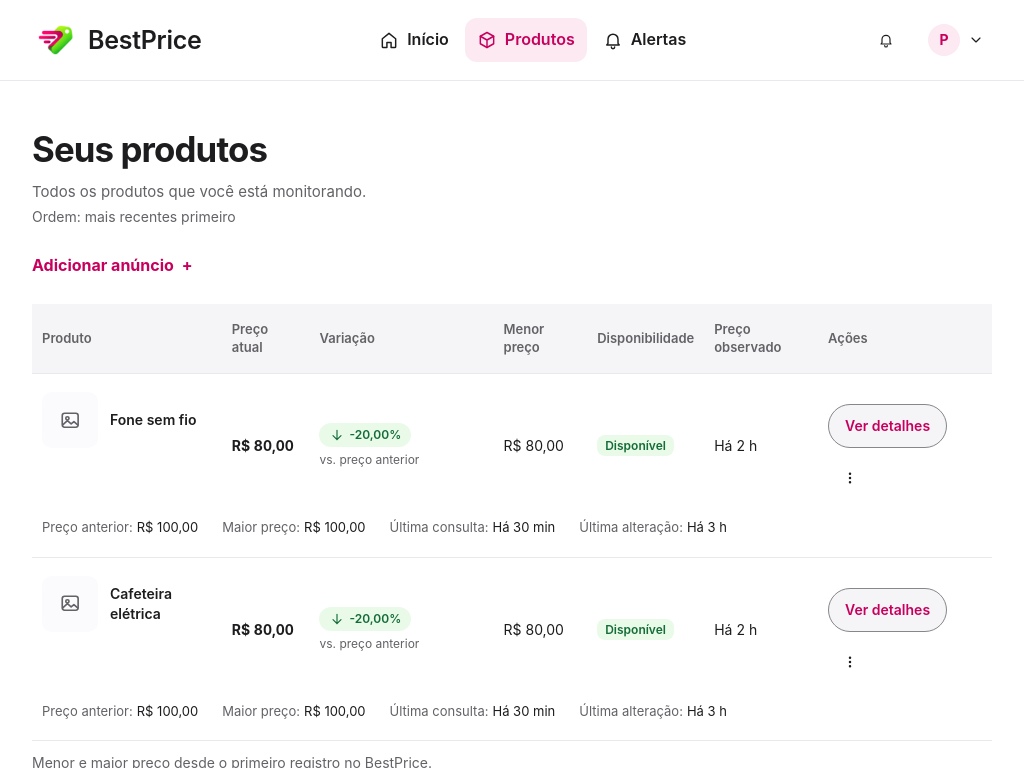
it: Parar de monitorar pela linha › cancela por clique fora sem requisição e devolve o foco ao menu da linha
expect the navigation bar named "Principal" is shown: met, box [367, 18, 698, 62]
Click the 2nd button named "Ações de Fone sem fio".
click(850, 478)  # box [828, 456, 872, 500]
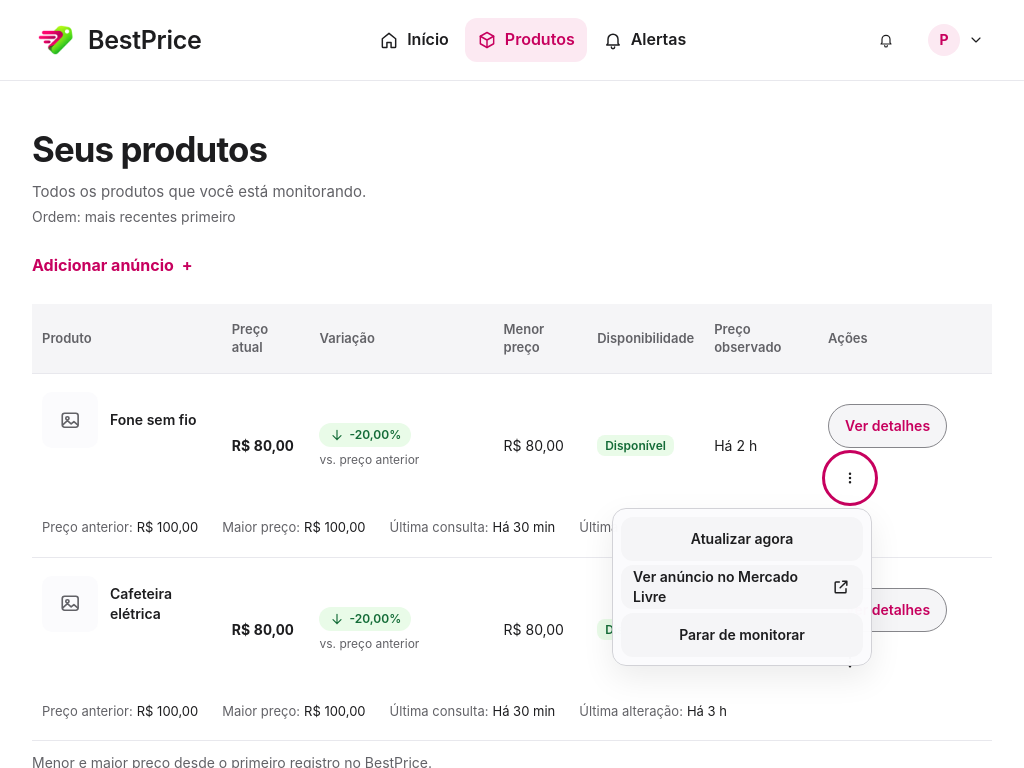
Click the button "Parar de monitorar".
click(742, 635)  # box [621, 613, 863, 657]
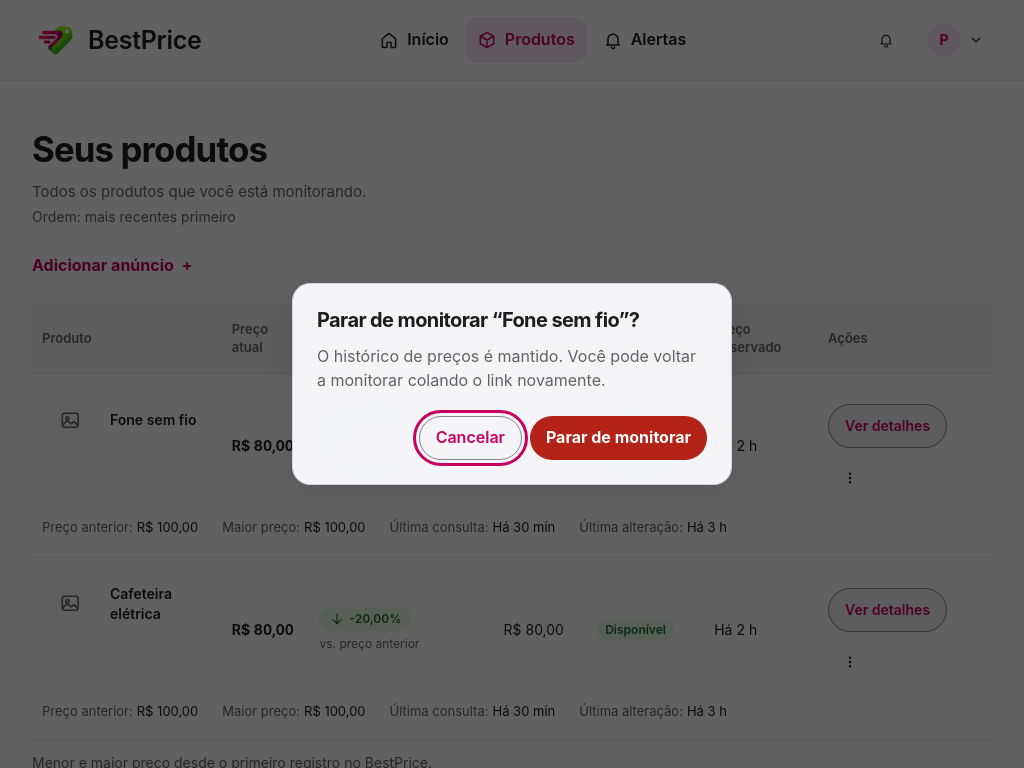
expect the dialog "Parar de monitorar “Fone sem fio”?" is shown: met, box [292, 283, 732, 485]
Click the element with test id "confirm-backdrop".
click(61, 384)  # box [0, 0, 1023, 767]
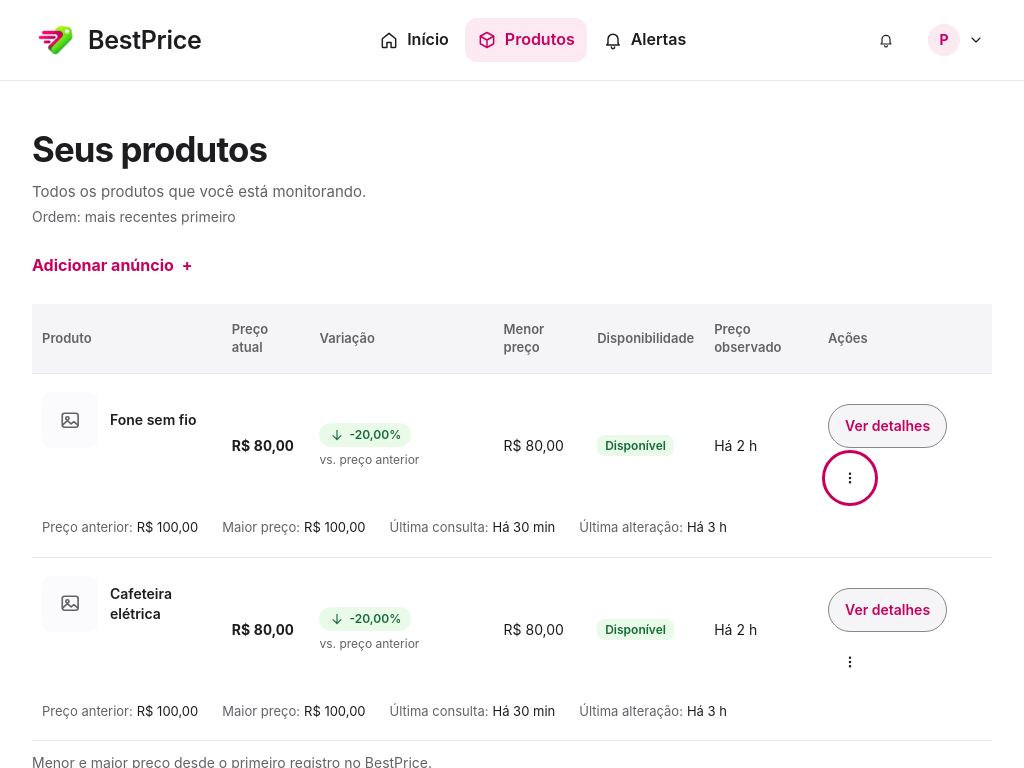
expect the dialog is gone: met
